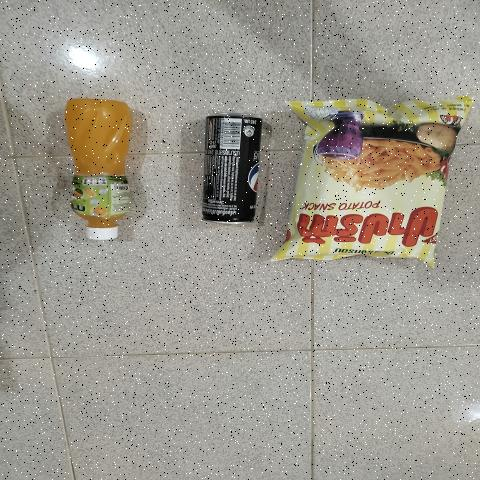paprika: (317, 105, 434, 255)
pepsi_black: (209, 112, 257, 223)
